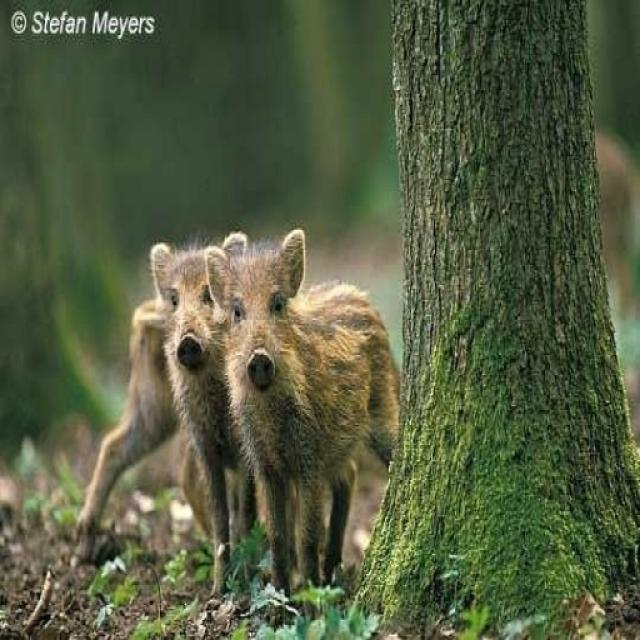pig: (211, 195, 439, 594), (136, 182, 242, 528)
